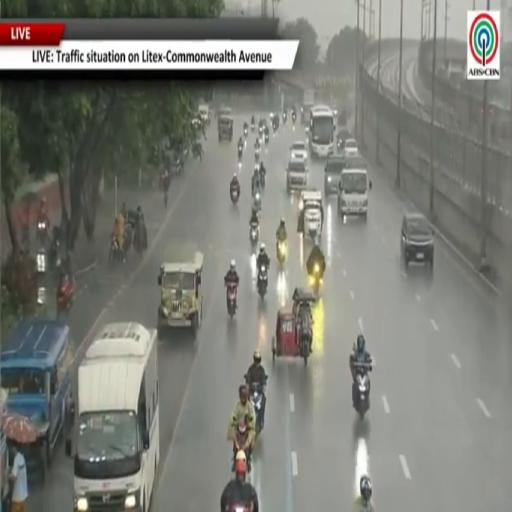bus: (74, 323, 159, 511), (309, 106, 335, 157)
car: (401, 213, 434, 267), (324, 155, 345, 196), (287, 158, 308, 193), (337, 123, 353, 151), (342, 154, 368, 169), (218, 115, 233, 141), (290, 141, 308, 159), (343, 139, 359, 155), (198, 104, 210, 124)
jeepney: (158, 252, 203, 332), (298, 189, 322, 242), (0, 424, 8, 511)
motorcycle: (354, 363, 371, 419), (233, 421, 251, 472), (250, 383, 263, 435), (57, 277, 74, 312), (134, 221, 147, 257), (309, 263, 322, 294), (109, 237, 124, 262), (227, 283, 237, 318), (123, 222, 134, 253), (37, 219, 49, 246), (258, 265, 267, 298), (277, 240, 287, 264), (230, 187, 240, 204), (250, 226, 258, 246), (253, 191, 261, 211), (252, 178, 260, 196), (230, 504, 250, 511), (259, 170, 265, 189), (255, 148, 260, 162), (164, 190, 168, 207), (272, 122, 278, 133), (238, 146, 242, 161), (265, 133, 269, 145), (292, 112, 296, 124), (244, 126, 248, 137), (259, 125, 263, 136), (283, 112, 287, 123), (251, 123, 254, 132)
tricycle: (272, 288, 316, 364)
truck: (301, 89, 315, 126)
